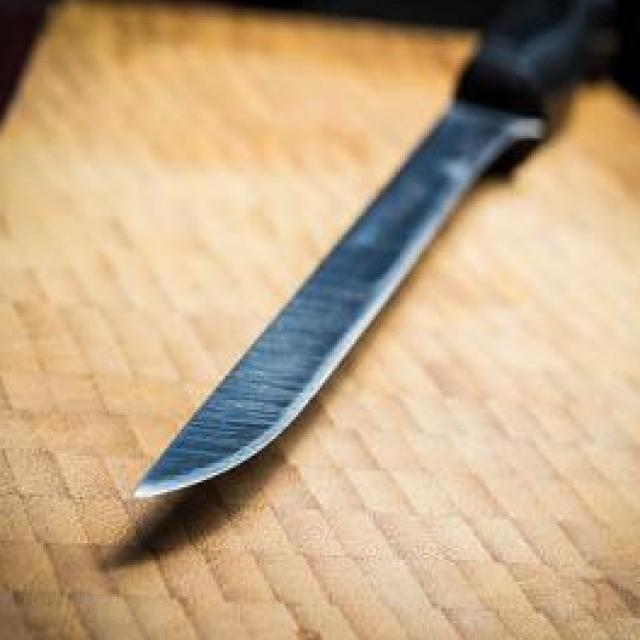knife: (126, 5, 572, 517)
